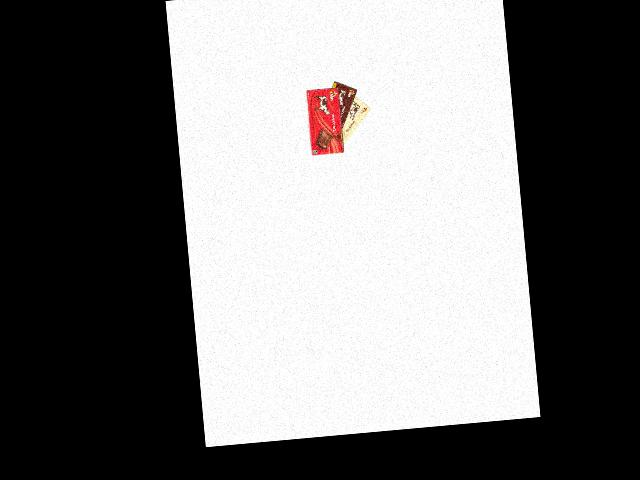chocolate: (332, 87, 375, 151)
